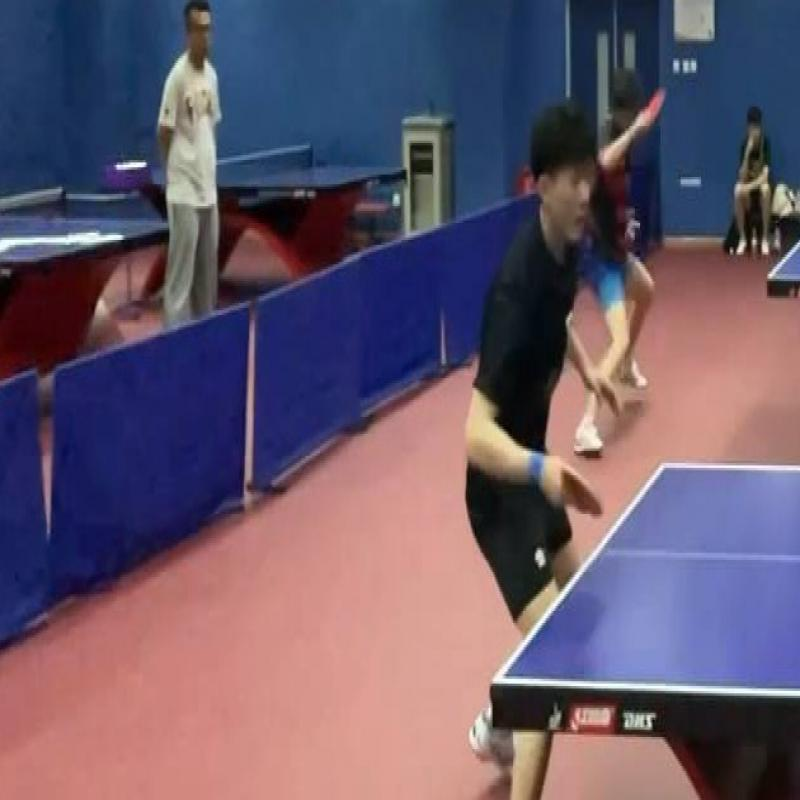bats: (554, 441, 610, 531)
